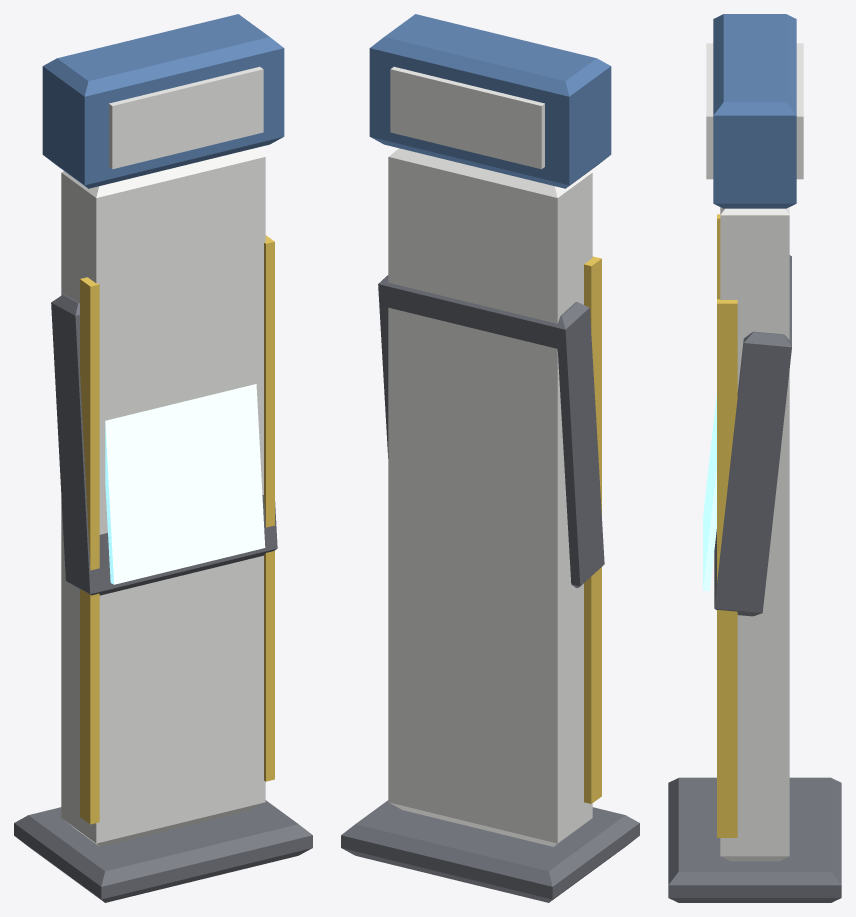
Rendered from airport-terminal-and-ground-operations-information-tot-d38d78b4.glb.
3 renders of one model, left to right at view 1: azimuth 30°, elevation 25°; view 2: azimuth 150°, elevation 25°; view 3: azimuth 270°, elevation 25°, orthographic.
Visible parts, largest first — view 1: information-totem; view 2: information-totem; view 3: information-totem.
Boxes of the visible parts, x1,y1,x2,y2 form: information-totem: (14, 14, 312, 902); information-totem: (341, 14, 639, 902); information-totem: (668, 14, 841, 902).
Bounding box in the file's own units: 0.6999 × 2.54 × 0.4999.
